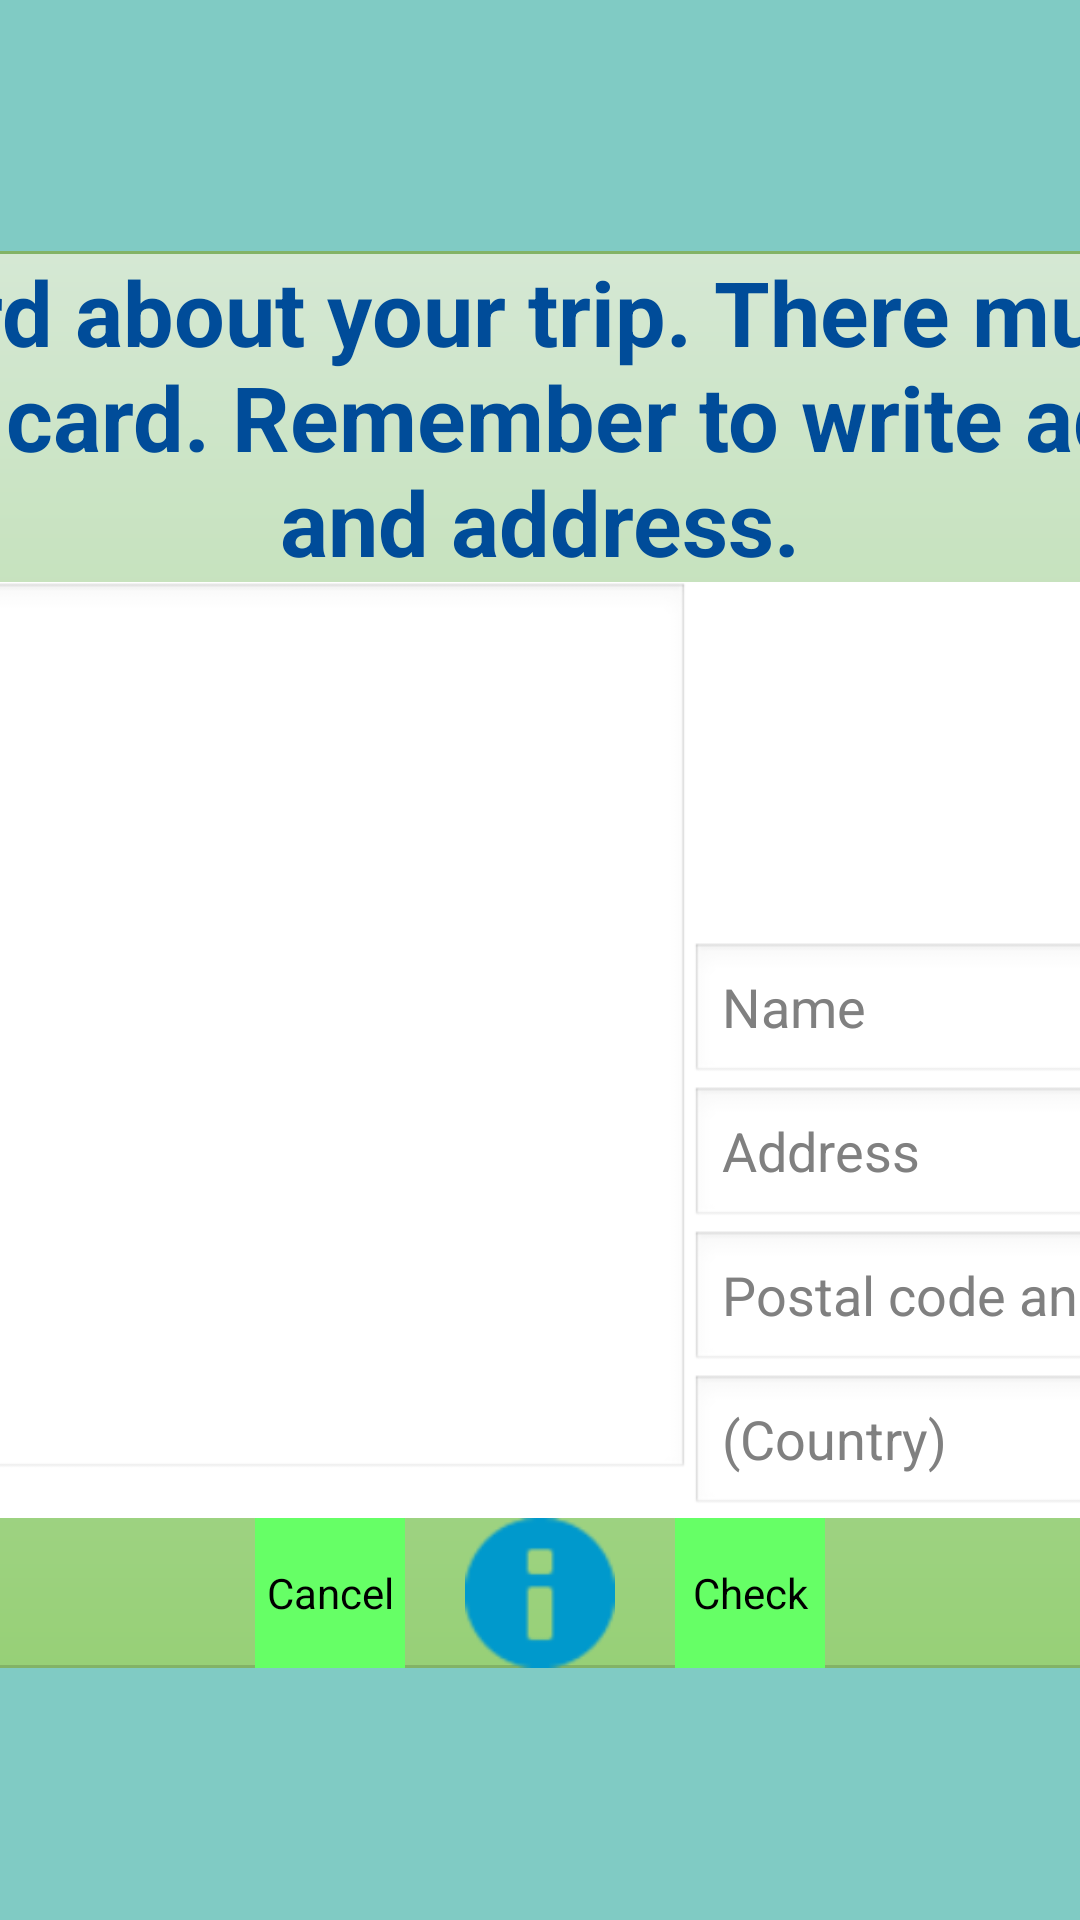

Screen size 1080 × 1920. Icon name, then its center in pixels as (x,y):
info: (540,1593)
